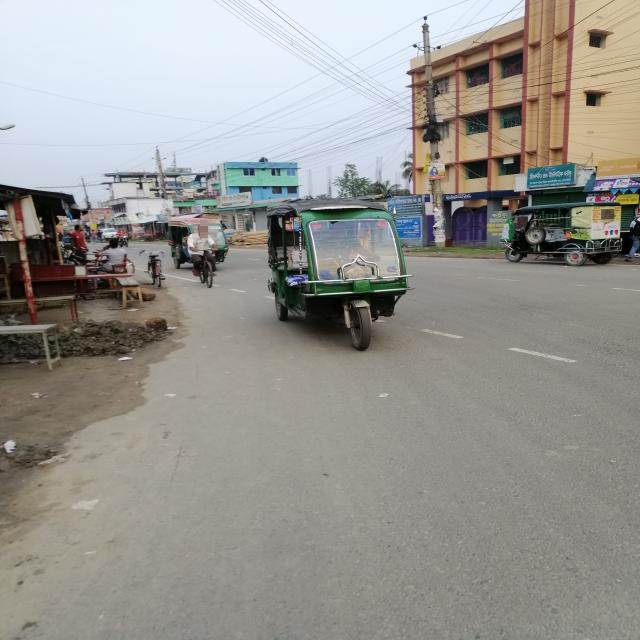Bicycle: (168, 243, 239, 307), (134, 249, 167, 294)
Easybike: (250, 193, 428, 360), (485, 193, 640, 283)
